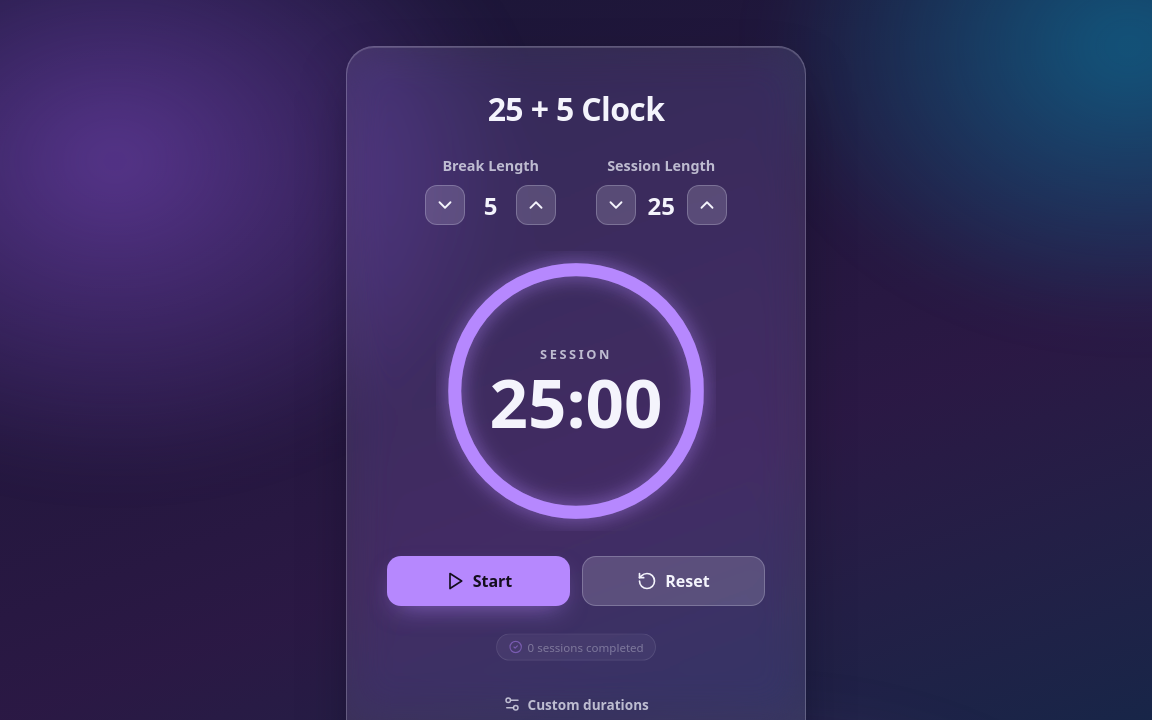
Test: Clock (integration) › with fake timers › counts down while running and resets to the default
Click the button with id "start_stop" at point(478, 581), box [387,556,570,606]
Wait 1000 ms
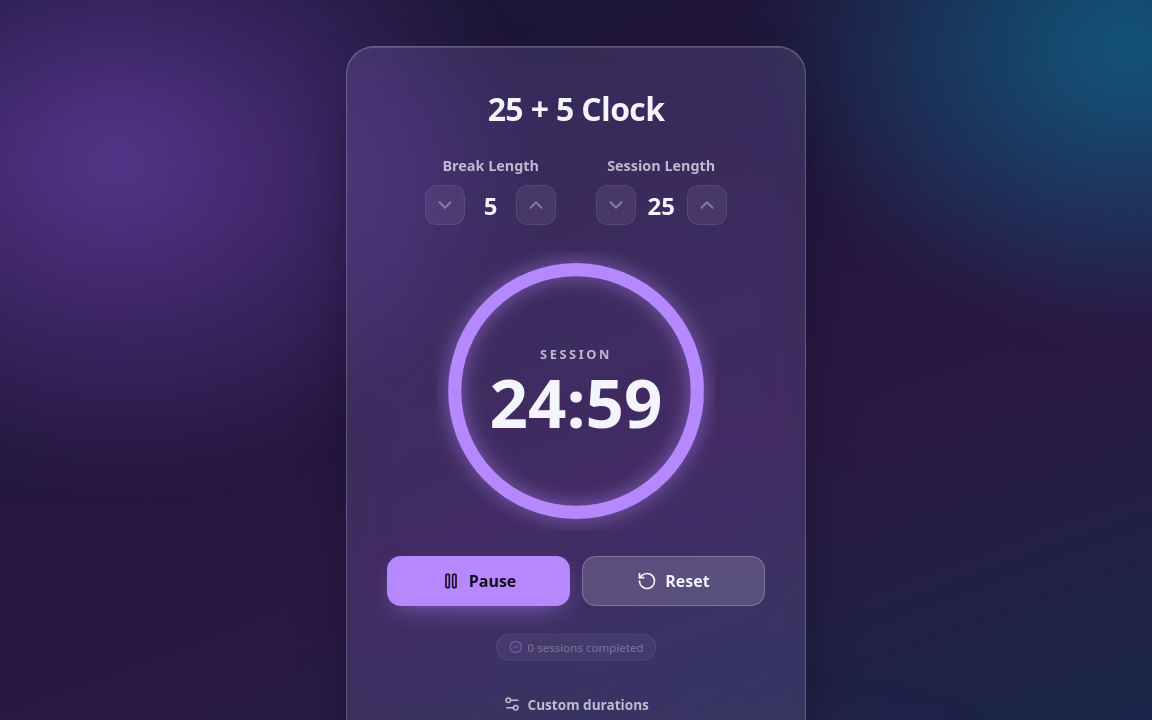
Expected: the text with id "time-left" reads "24:59", [490,356,662,448]
Click the button with id "reset" at point(674, 581), box [582,556,765,606]
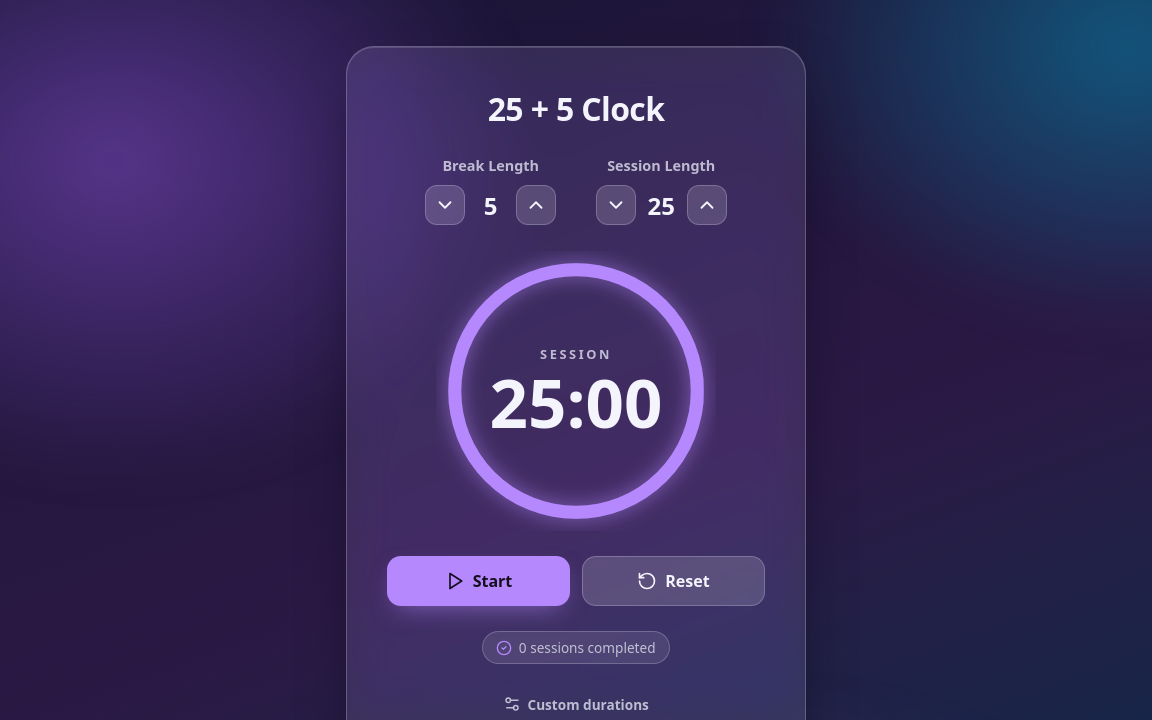
Expected: the text with id "session-length" reads "25", [648,189,675,222]
Expected: the text with id "time-left" reads "25:00", [490,356,662,448]
